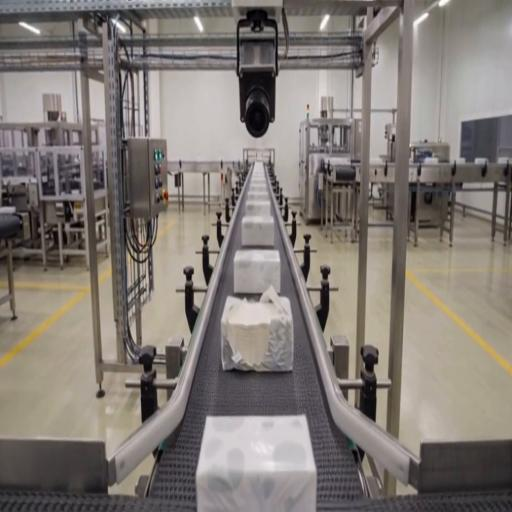defective: (197, 413, 316, 510), (219, 289, 293, 372)
good: (233, 248, 282, 296), (241, 213, 276, 248), (244, 194, 273, 215), (246, 180, 271, 200), (247, 165, 270, 186)
